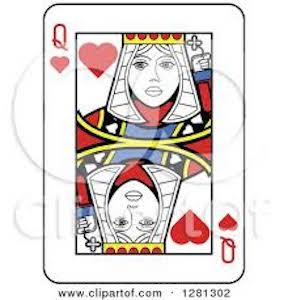QueenOfHearts: (39, 2, 249, 289)
